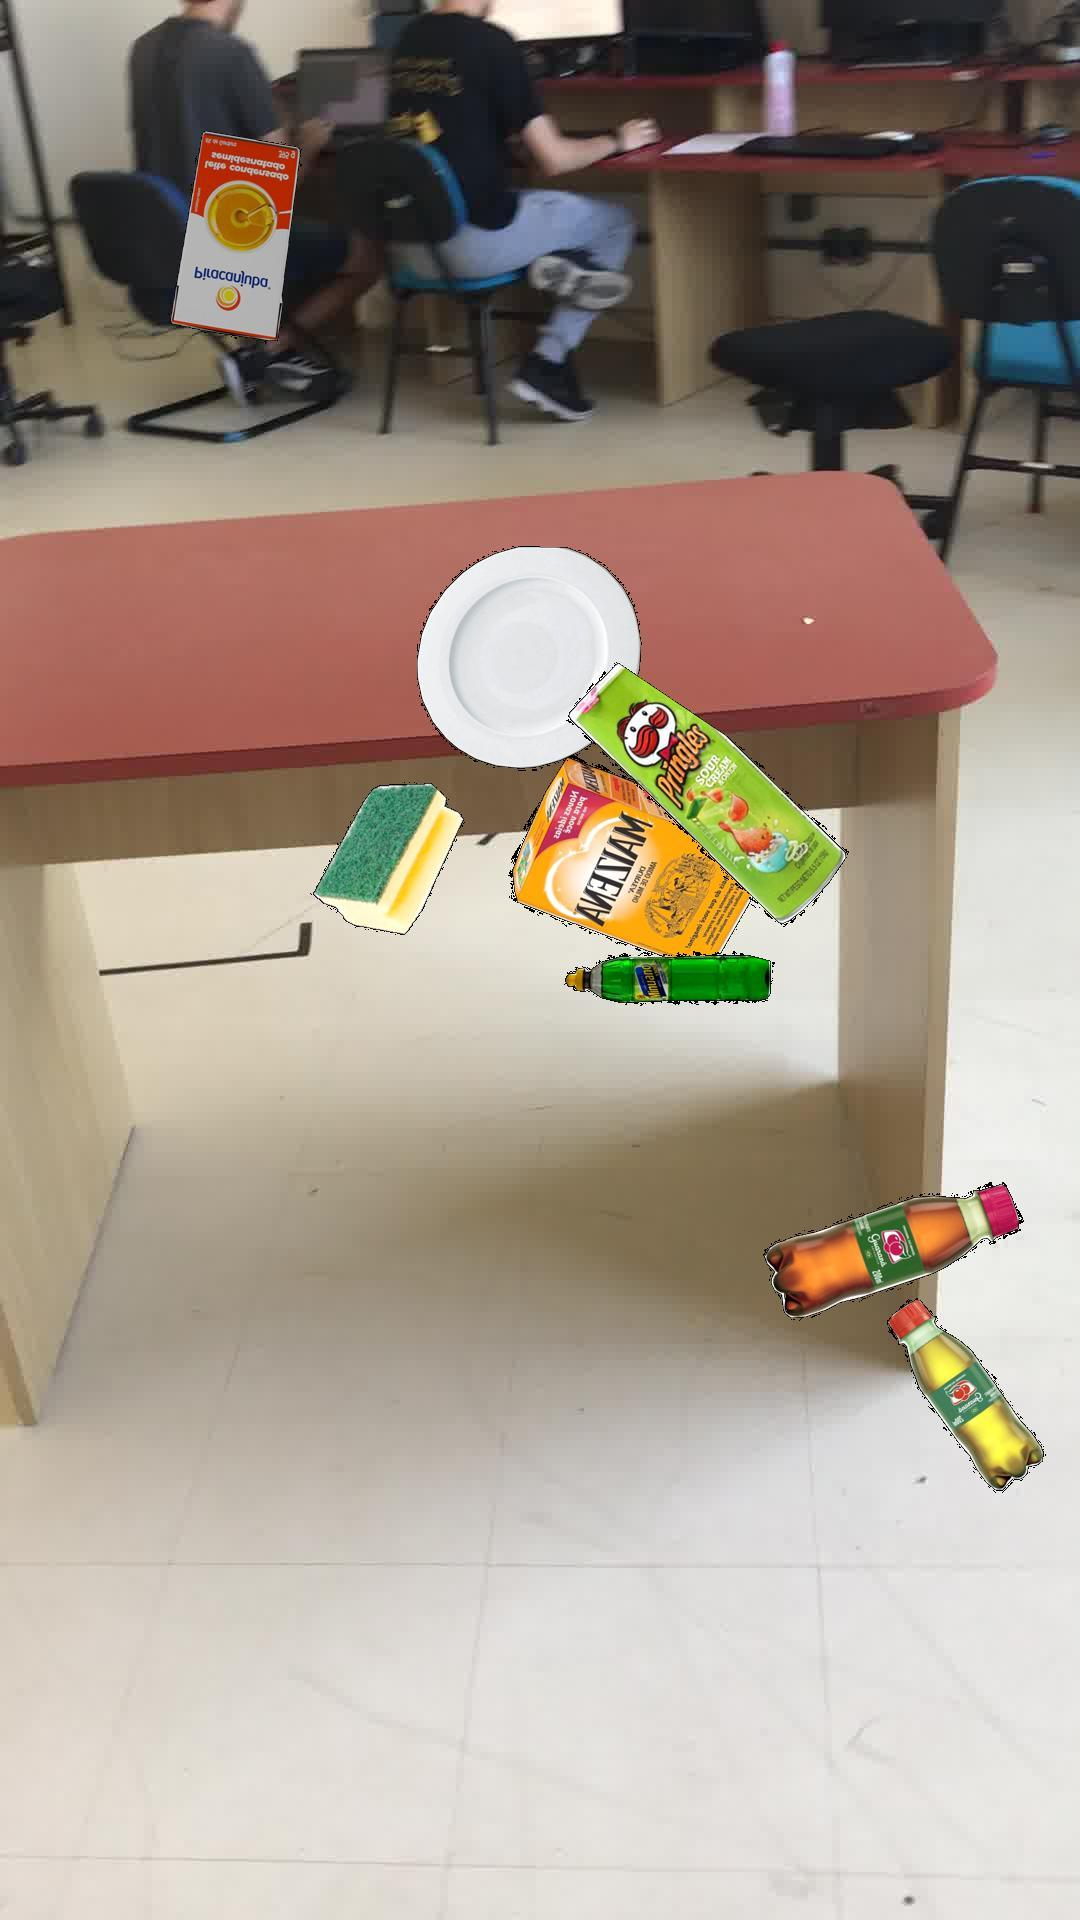cleaner: (563, 949, 770, 1004)
guarana: (761, 1180, 1022, 1317), (886, 1296, 1043, 1490)
plate: (415, 545, 641, 767)
pringles: (567, 662, 848, 923)
sponge: (311, 782, 463, 934)
